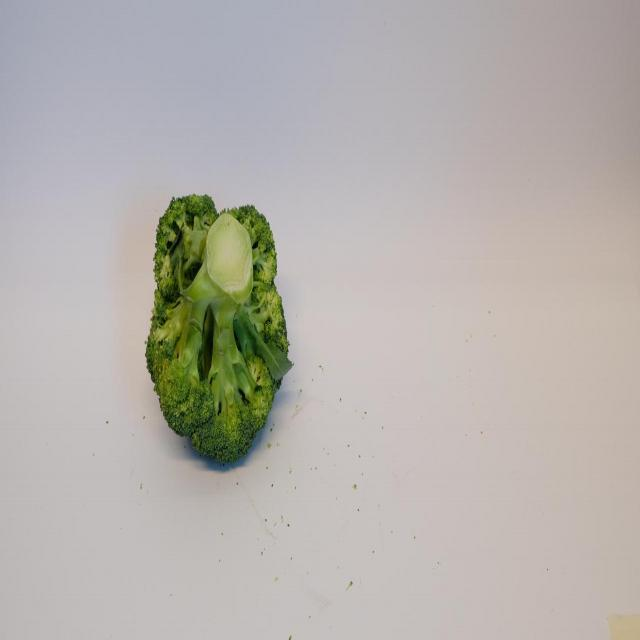broccoli: (144, 185, 295, 470)
